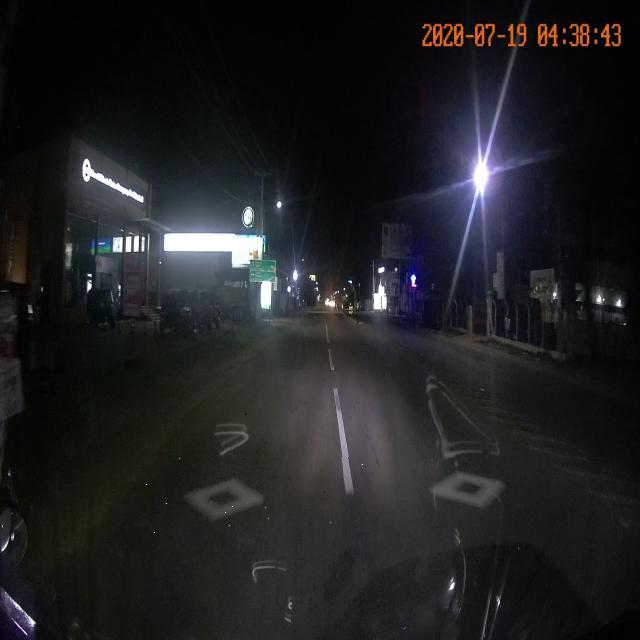diamond: (87, 457, 371, 552)
